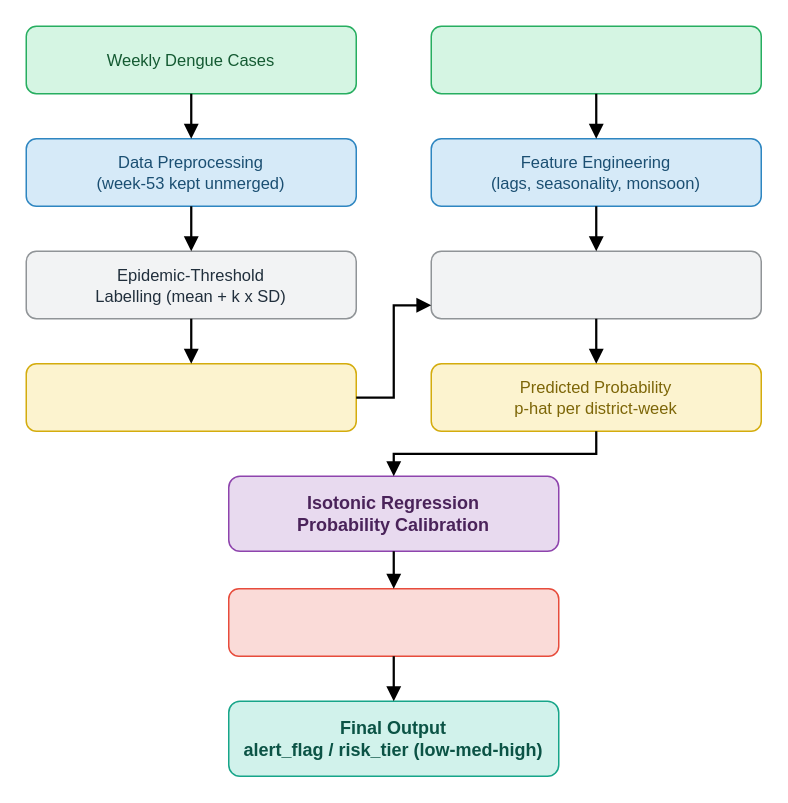
Image size: 788x803. Some labels were removed from this diagram. The shapes that lost their labels are listed below. From the top down, each one's box as (x1, y1, x2, y2) in pixels, then its label:
(430, 25, 761, 94): Climate + Engineered Features
(430, 250, 761, 319): Random Forest Pooled Outbreak Classifier
(25, 362, 356, 431): Outbreak Labels (binary: 0 / 1)
(227, 587, 559, 656): Calibrated Probability p-tilde = g(p-hat)
